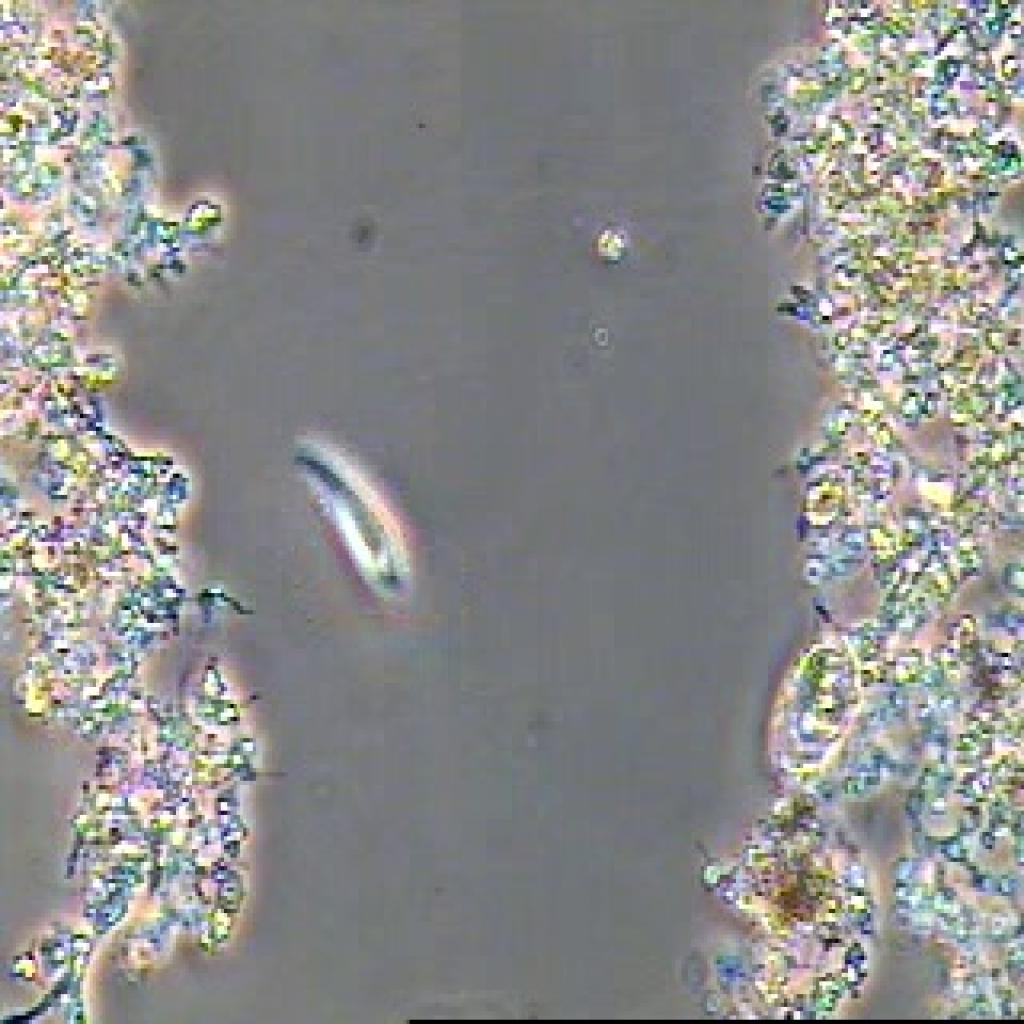Pristina: (276, 418, 418, 602)
